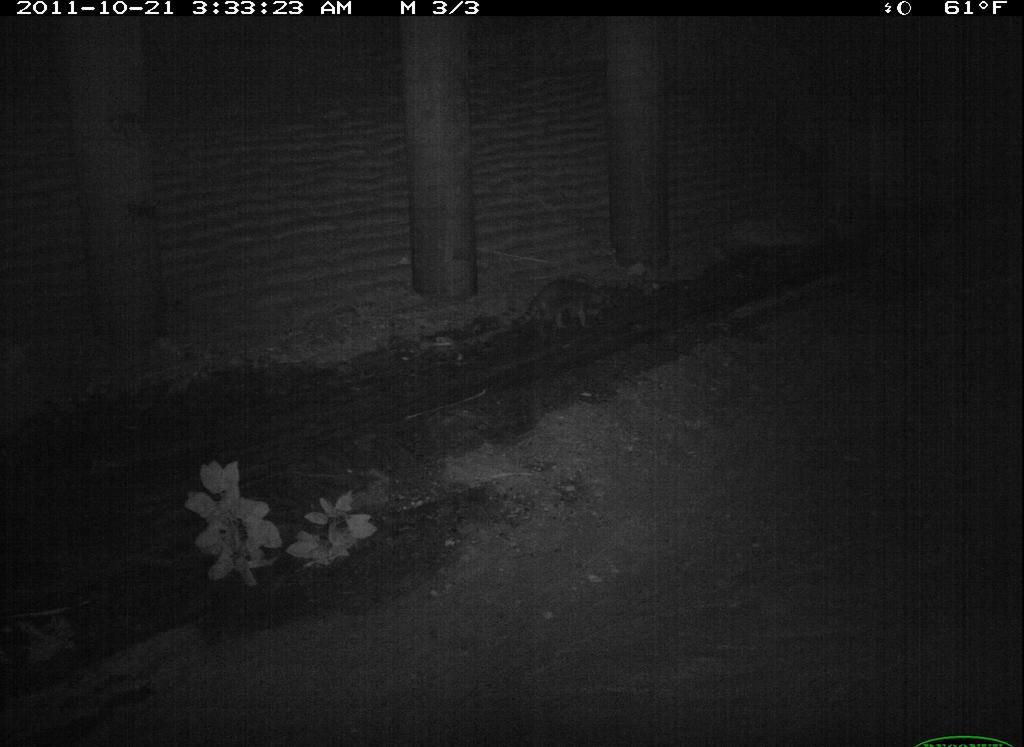raccoon: (1020, 547, 1024, 689)
